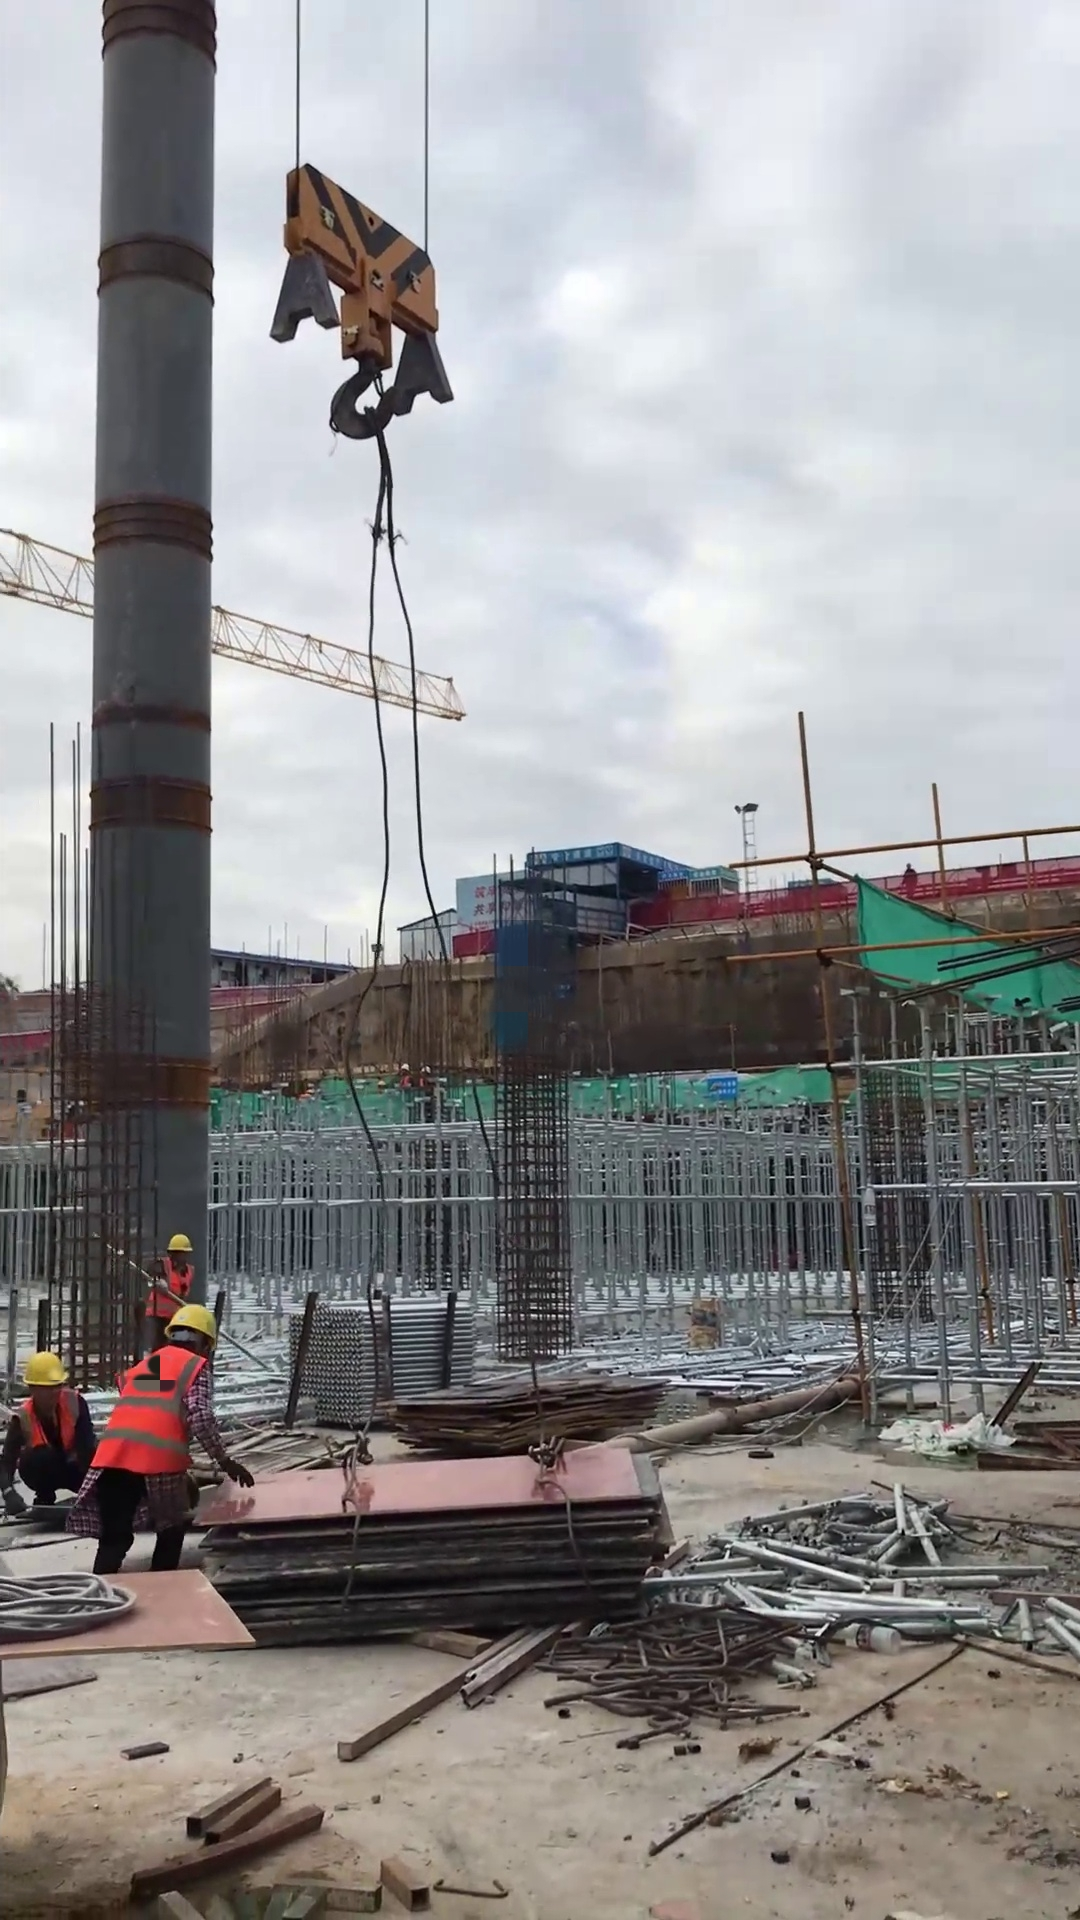board: (194, 1444, 665, 1631), (391, 1375, 668, 1455)
helmet: (160, 1301, 219, 1349), (20, 1350, 69, 1390), (162, 1232, 196, 1256), (399, 1060, 411, 1074)
hook: (269, 160, 458, 441)
person: (61, 1302, 258, 1575), (1, 1349, 109, 1519), (141, 1231, 197, 1356), (901, 862, 920, 898), (396, 1059, 415, 1091)
scaffold: (286, 1290, 475, 1423)
slogan: (530, 846, 738, 880), (471, 883, 528, 919), (703, 1072, 738, 1102)
vest: (84, 1346, 209, 1475), (13, 1387, 82, 1458), (142, 1258, 198, 1319), (398, 1074, 413, 1090)
